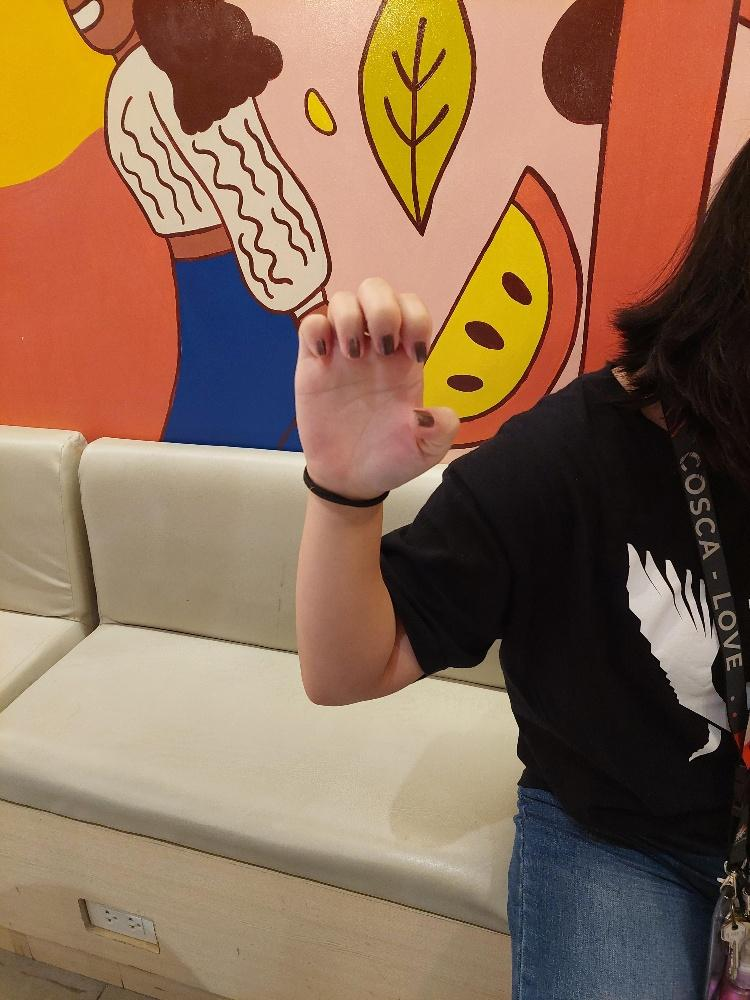e: (291, 271, 462, 504)
